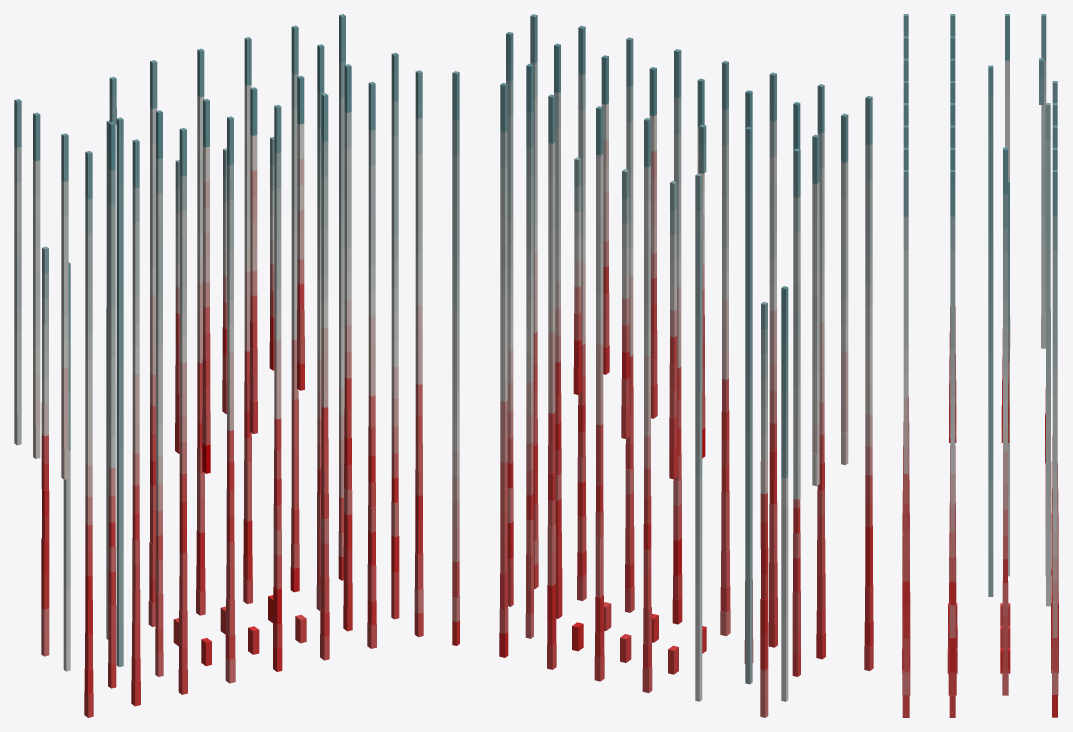
Rendered from Rect-SRC_Fs310MPa_1_view.glb.
The picture shows the model from 3 angles, left to right: view 1: azimuth 30°, elevation 25°; view 2: azimuth 150°, elevation 25°; view 3: azimuth 270°, elevation 25°; orthographic projection. The views are drawn at different scales.
Parts seen in each view (by area): view 1: ACS_0288, ACS_0290, ACS_0295, ACS_0314, ACS_0373, ACS_0088, ACS_0072, ACS_0341, ACS_0317, ACS_0225, ACS_0348, ACS_0333 (+5 smaller); view 2: ACS_0288, ACS_0290, ACS_0329, ACS_0304, ACS_0373, ACS_0088, ACS_0314, ACS_0253, ACS_0333, ACS_0317, ACS_0316, ACS_0348 (+6 smaller); view 3: ACS_0072, ACS_0036, ACS_0062, ACS_0396, ACS_0375, ACS_0313, ACS_0311, ACS_0213, ACS_0250, ACS_0090, ACS_0353, ACS_0092 (+6 smaller).
Boxes of the visible parts, x1,y1,x2,y2 form: ACS_0288: (320, 406, 329, 660); ACS_0290: (226, 429, 234, 636); ACS_0295: (343, 377, 352, 607); ACS_0314: (367, 426, 376, 648); ACS_0373: (132, 563, 140, 658); ACS_0088: (61, 215, 68, 317); ACS_0072: (391, 135, 398, 236); ACS_0341: (343, 437, 352, 631); ACS_0317: (179, 472, 187, 671); ACS_0225: (202, 332, 210, 445); ACS_0348: (41, 463, 49, 609); ACS_0333: (367, 454, 376, 625); ACS_0288: (625, 355, 634, 612); ACS_0290: (721, 378, 729, 588); ACS_0329: (643, 496, 651, 645); ACS_0304: (668, 416, 678, 674); ACS_0373: (817, 514, 825, 611); ACS_0088: (841, 197, 848, 300); ACS_0314: (577, 375, 586, 600); ACS_0253: (572, 339, 583, 651); ACS_0333: (577, 404, 586, 577); ACS_0317: (769, 422, 777, 623); ACS_0316: (720, 410, 730, 612); ACS_0348: (760, 521, 768, 670); ACS_0072: (950, 250, 955, 347); ACS_0036: (988, 95, 993, 226); ACS_0062: (988, 129, 993, 250); ACS_0396: (902, 638, 909, 717); ACS_0375: (949, 581, 955, 672); ACS_0313: (903, 504, 909, 581); ACS_0311: (988, 384, 993, 436); ACS_0213: (903, 397, 908, 448); ACS_0250: (1052, 422, 1057, 473); ACS_0090: (1045, 164, 1050, 212); ACS_0353: (1002, 535, 1008, 695); ACS_0092: (903, 276, 908, 323).
Bounding box in the file's own units: 59.75 × 95.9 × 25.
